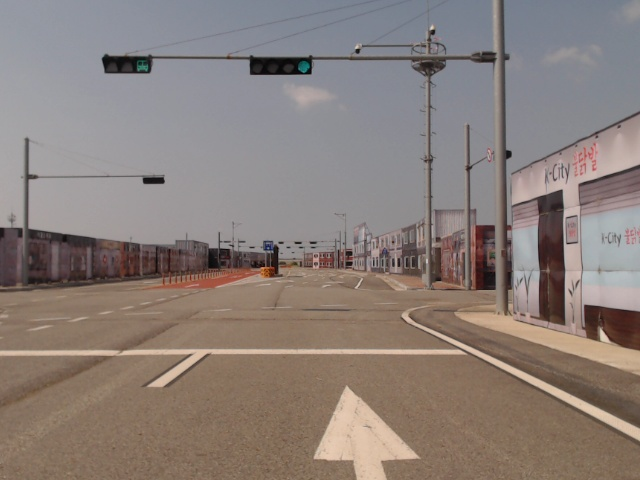straight_green_4: (250, 58, 313, 75)
